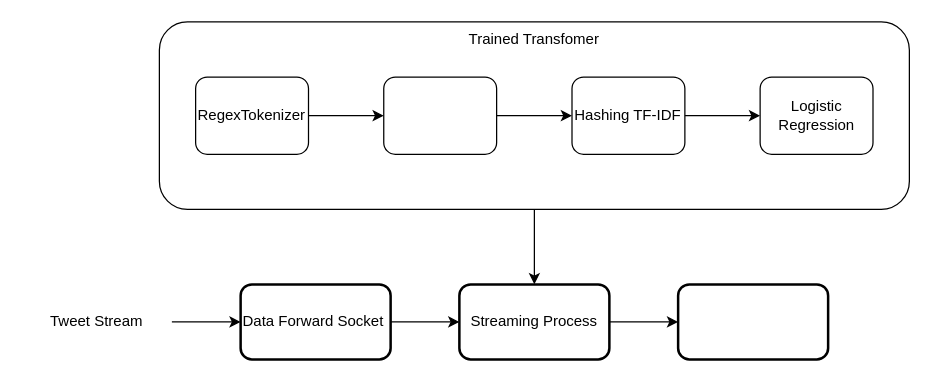
This 931x384 diagram has some shape labels left out. Here are the shapes that lost their labels. From the top down, the box of each, then its label:
(382, 76, 497, 154): StopWords Remover
(676, 282, 829, 360): Visualization Thread
